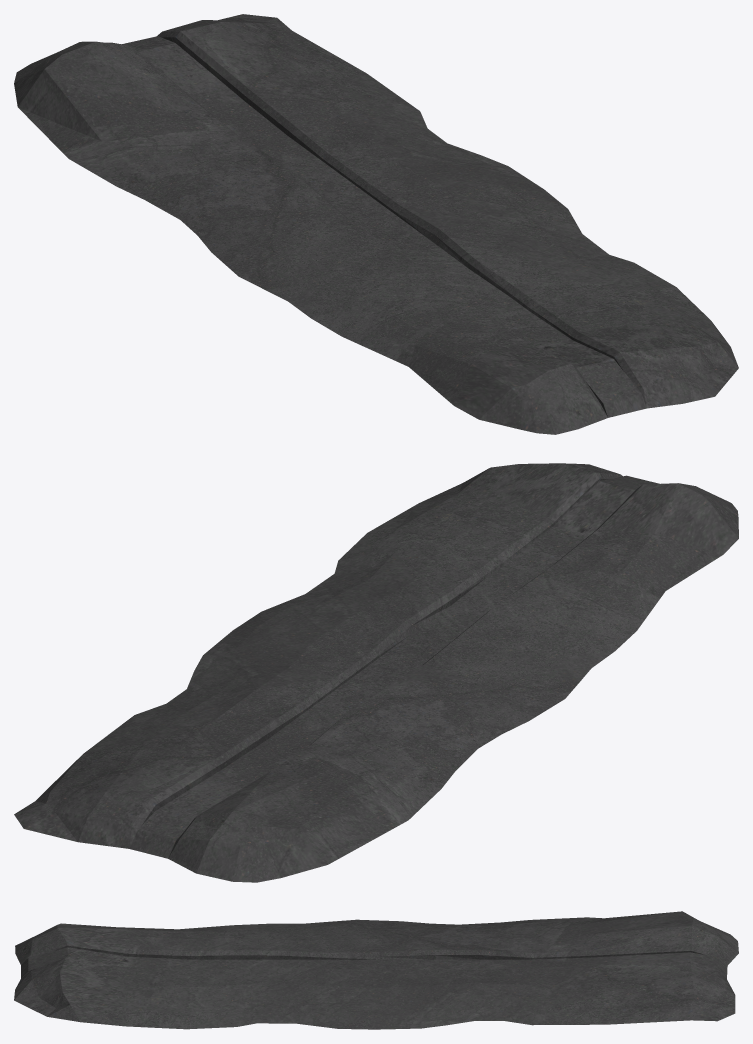
The model's file is ShutterDoor_Floor.fbx.
3 renders of one model, top to bottom at view 1: azimuth 30°, elevation 25°; view 2: azimuth 150°, elevation 25°; view 3: azimuth 270°, elevation 25°, orthographic. The views are drawn at different scales.
Parts seen in each view (by area): view 1: SM_ENV_NATURE_Cave_ShutterDoor_Floor_02.mo; view 2: SM_ENV_NATURE_Cave_ShutterDoor_Floor_02.mo; view 3: SM_ENV_NATURE_Cave_ShutterDoor_Floor_02.mo.
Part boxes in pixels (box(x1,y1,x2,y2)): SM_ENV_NATURE_Cave_ShutterDoor_Floor_02.mo: box(14, 14, 738, 434); SM_ENV_NATURE_Cave_ShutterDoor_Floor_02.mo: box(14, 463, 738, 882); SM_ENV_NATURE_Cave_ShutterDoor_Floor_02.mo: box(14, 911, 738, 1029).
Bounding box in the file's own units: 210 × 23.46 × 572.
Materials: 1 (1 with a texture image).
